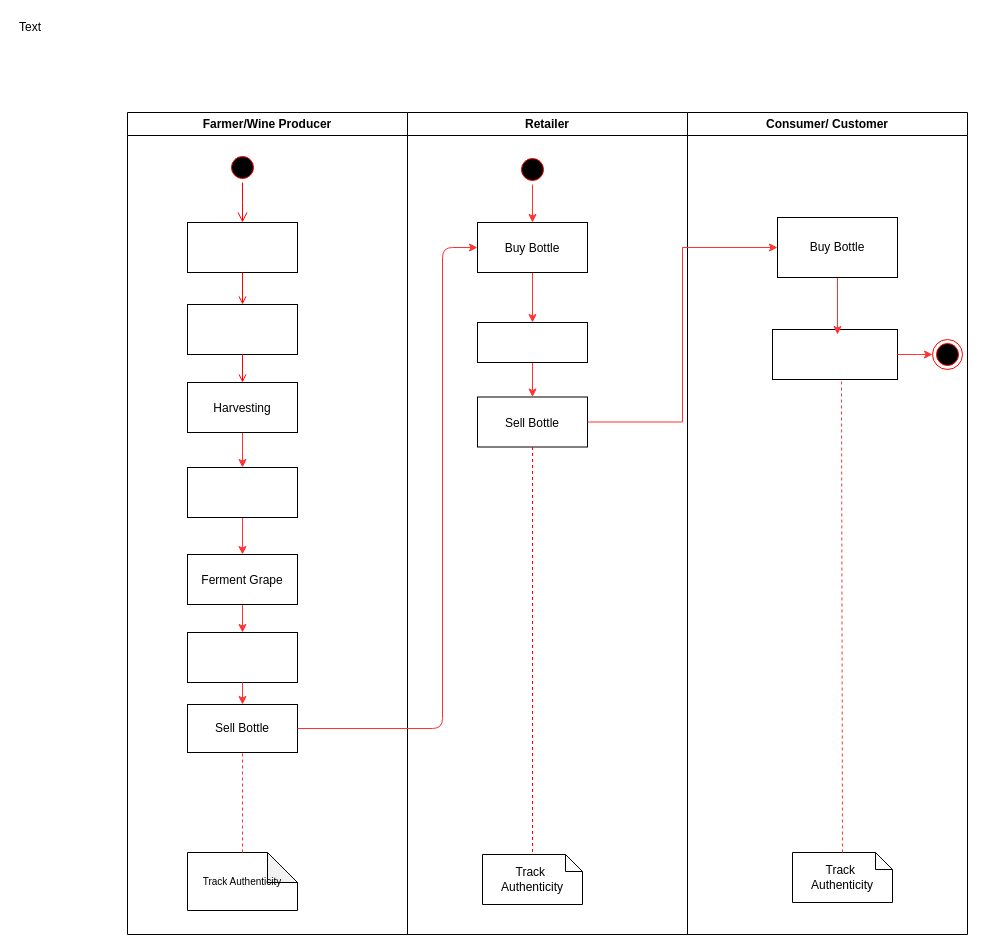
This 985x952 diagram has some shape labels left out. Each missing label, with the centre of its shape:
"Consume Bottle" belongs at (x=835, y=354).
"Create Bottle" belongs at (x=242, y=657).
"Press Grape" belongs at (x=242, y=492).
"Production/Pruning" belongs at (x=242, y=329).
"Purchasing Land" belongs at (x=242, y=247).
"Transport Bottle" belongs at (x=532, y=342).
